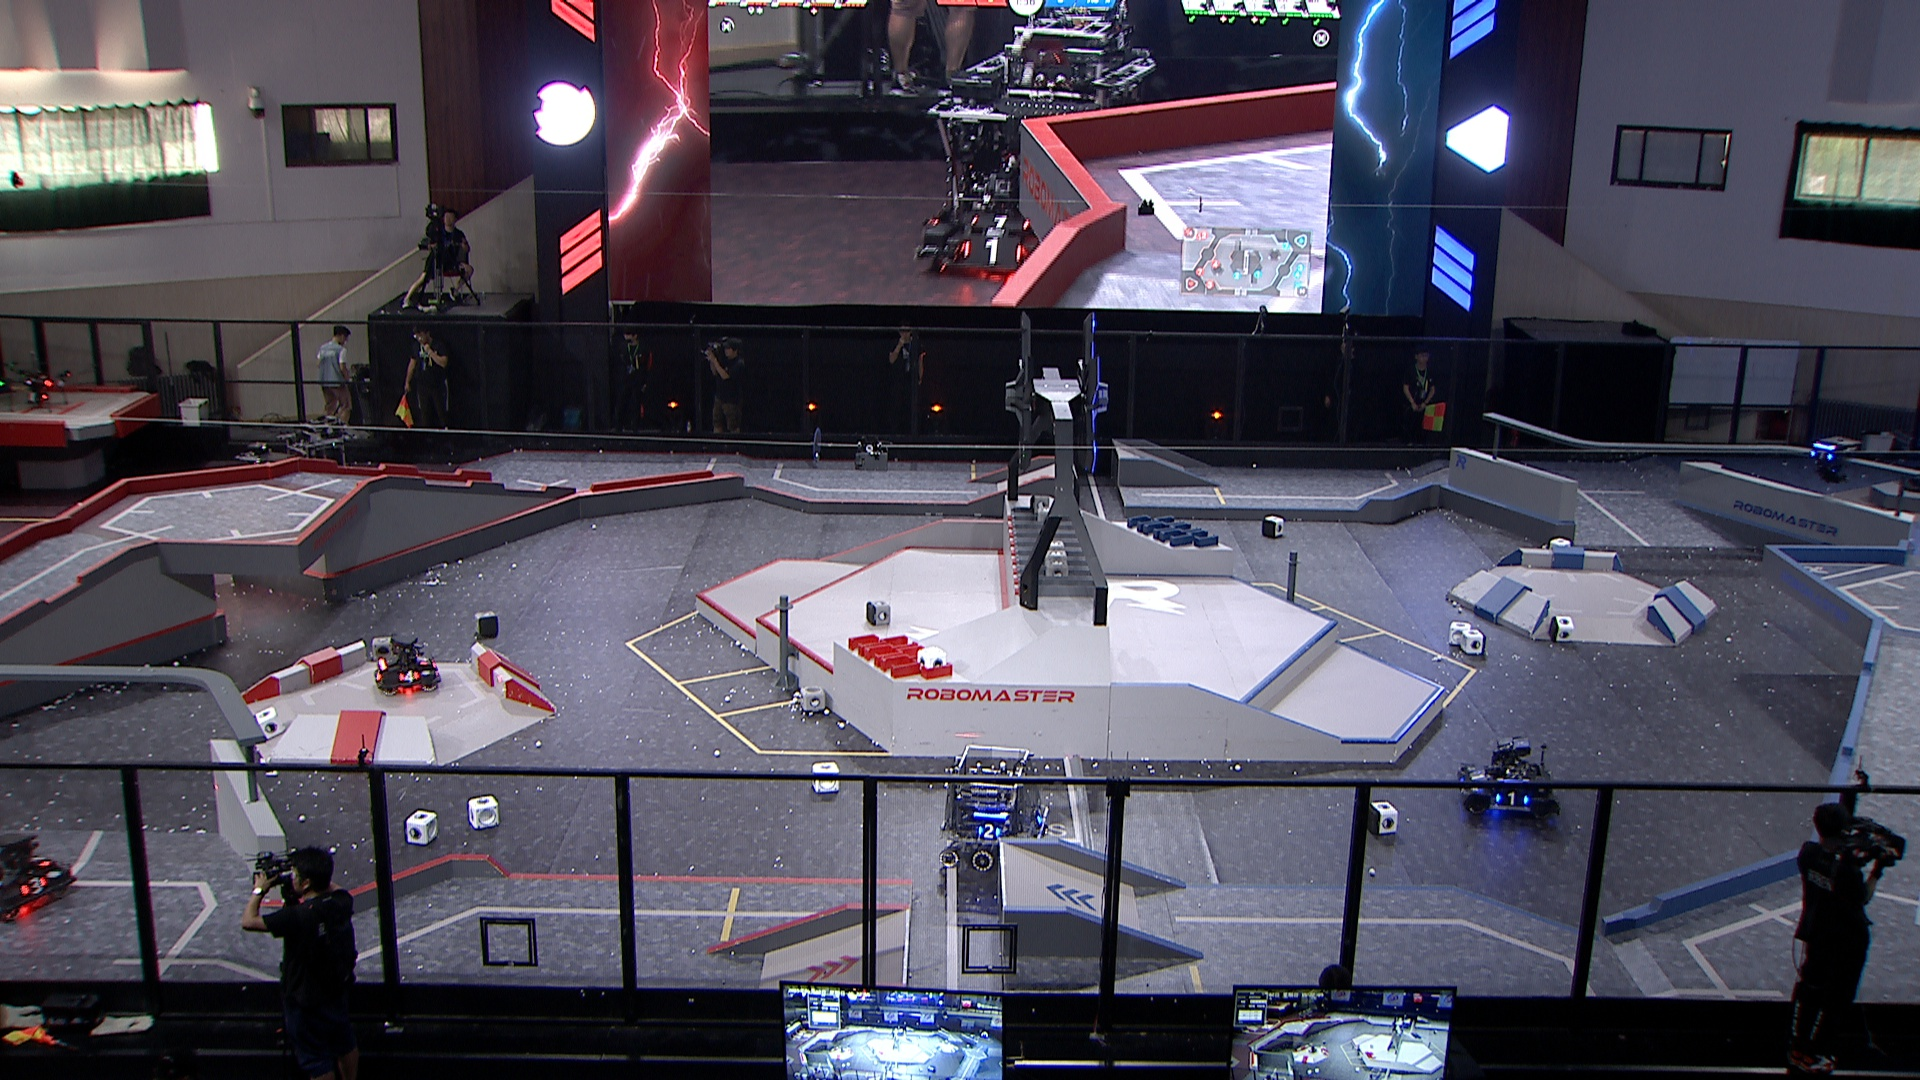armor: (18, 876, 47, 901), (1495, 790, 1531, 808), (975, 822, 1004, 841), (1809, 450, 1836, 463), (1468, 769, 1489, 785), (400, 670, 422, 684)
car: (942, 745, 1054, 874), (1455, 736, 1561, 825), (272, 415, 357, 496), (225, 440, 295, 509), (372, 632, 442, 694)
ignore: (920, 15, 1156, 272)
watcher: (1809, 436, 1859, 487)
